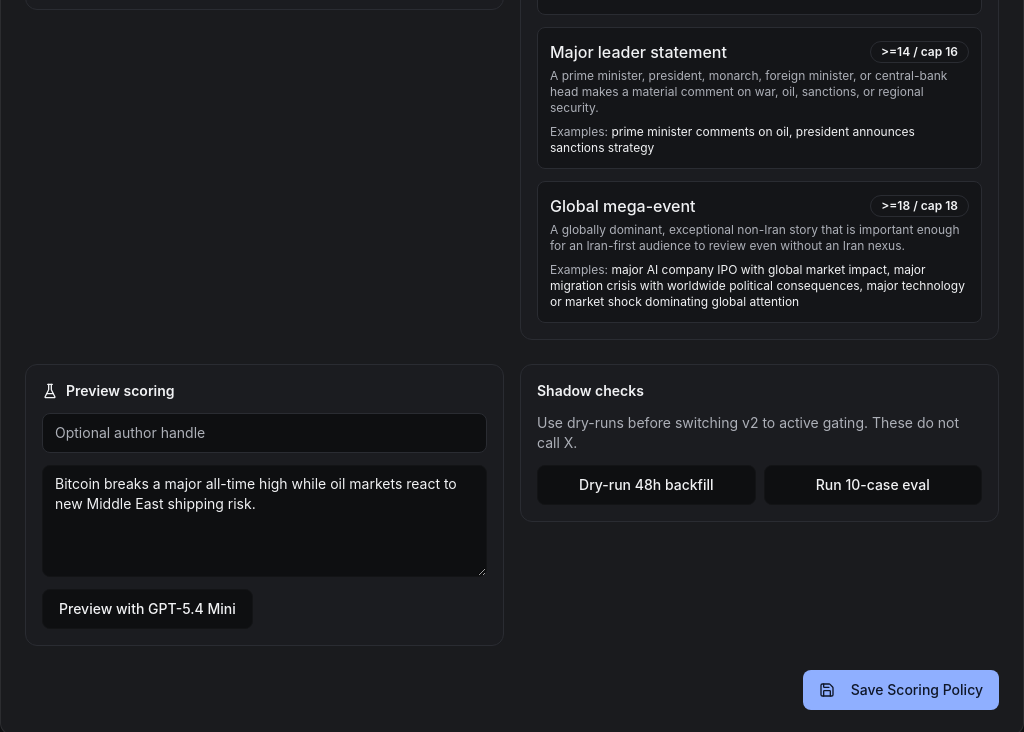
Scenario: ScoringStudio › previews scoring policy results
(page scrolled)
Click the button "Preview with GPT-5.4 Mini": (147, 608) [42,588,253,628]
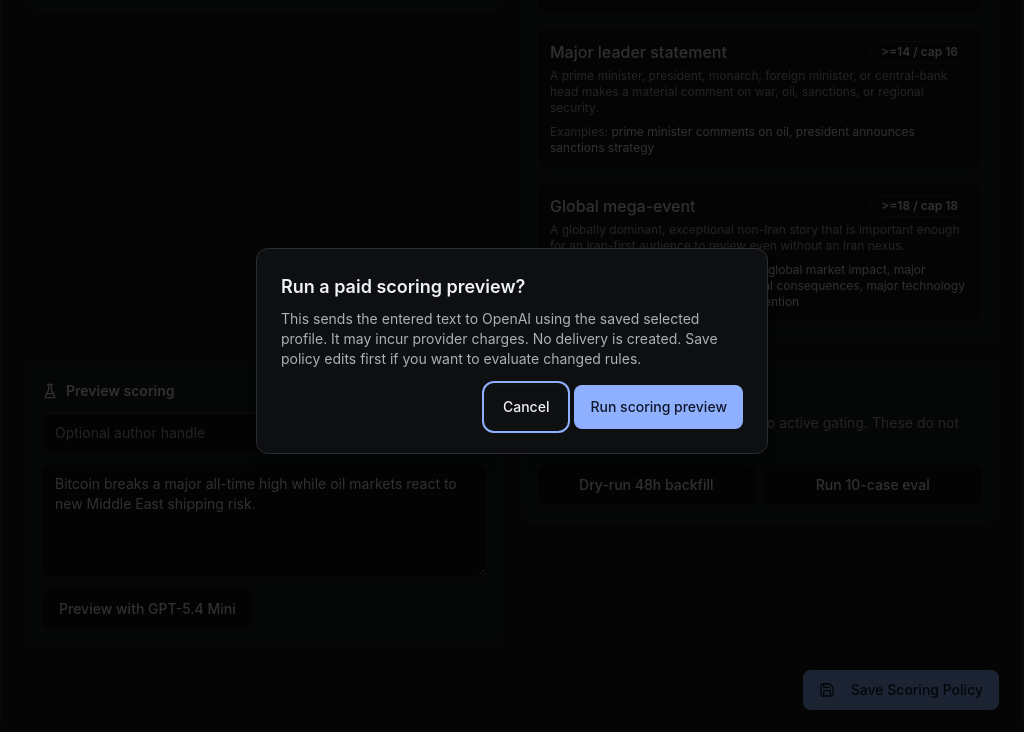
Click the button "Run scoring preview": (659, 407) [574,385,743,429]
(page scrolled)
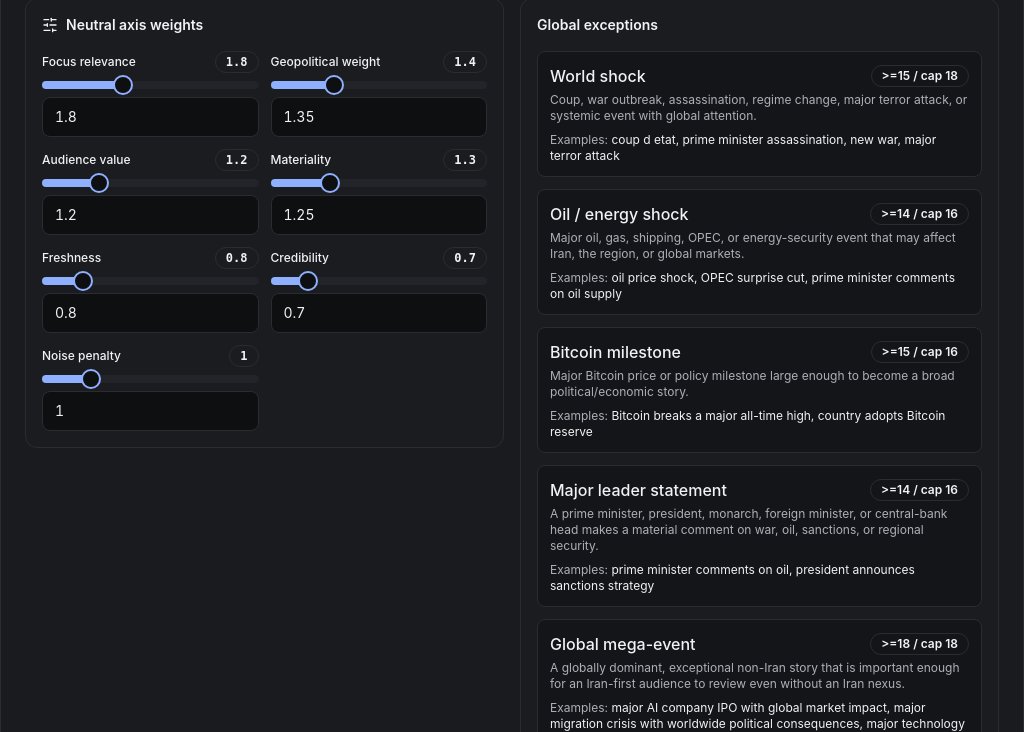
Expected: the text "Bitcoin milestone" is shown, [550,340,681,364]
Now the dialog is gone
